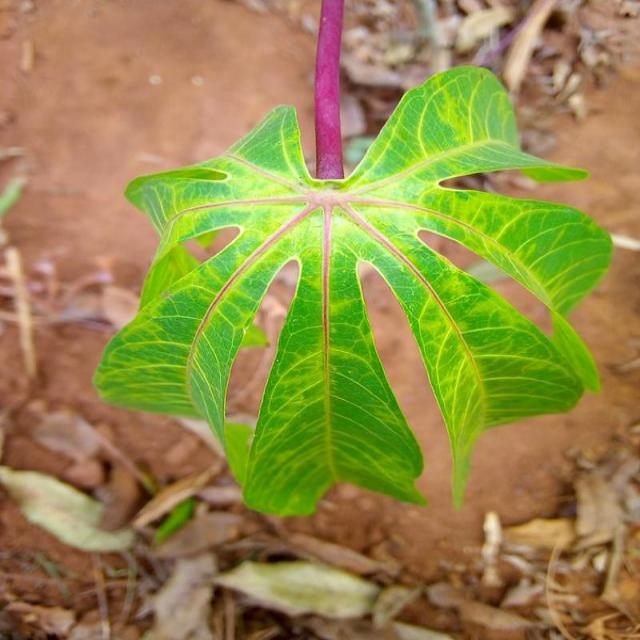cassava leaf: (91, 3, 614, 520)
